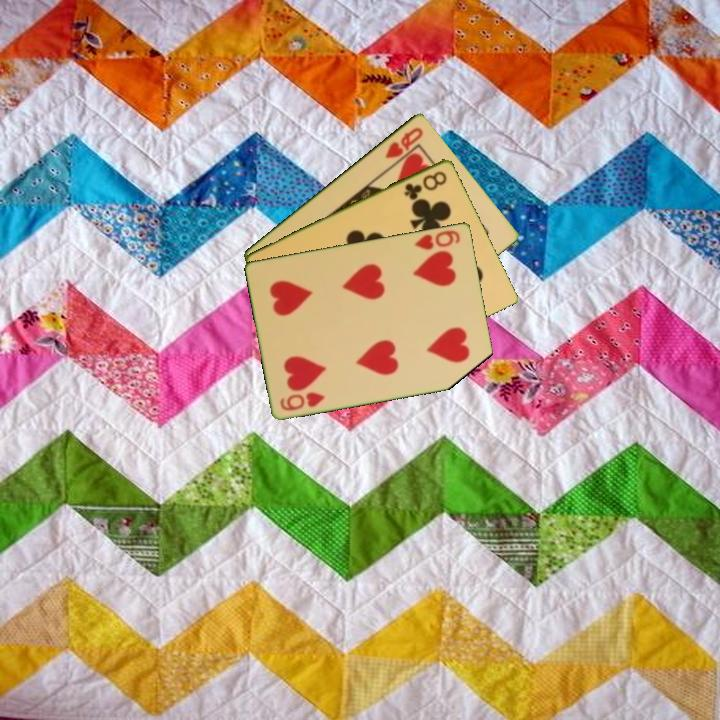6h: (411, 226, 463, 252), (277, 388, 328, 414)
8c: (401, 167, 450, 202)
Qh: (382, 123, 426, 161)
